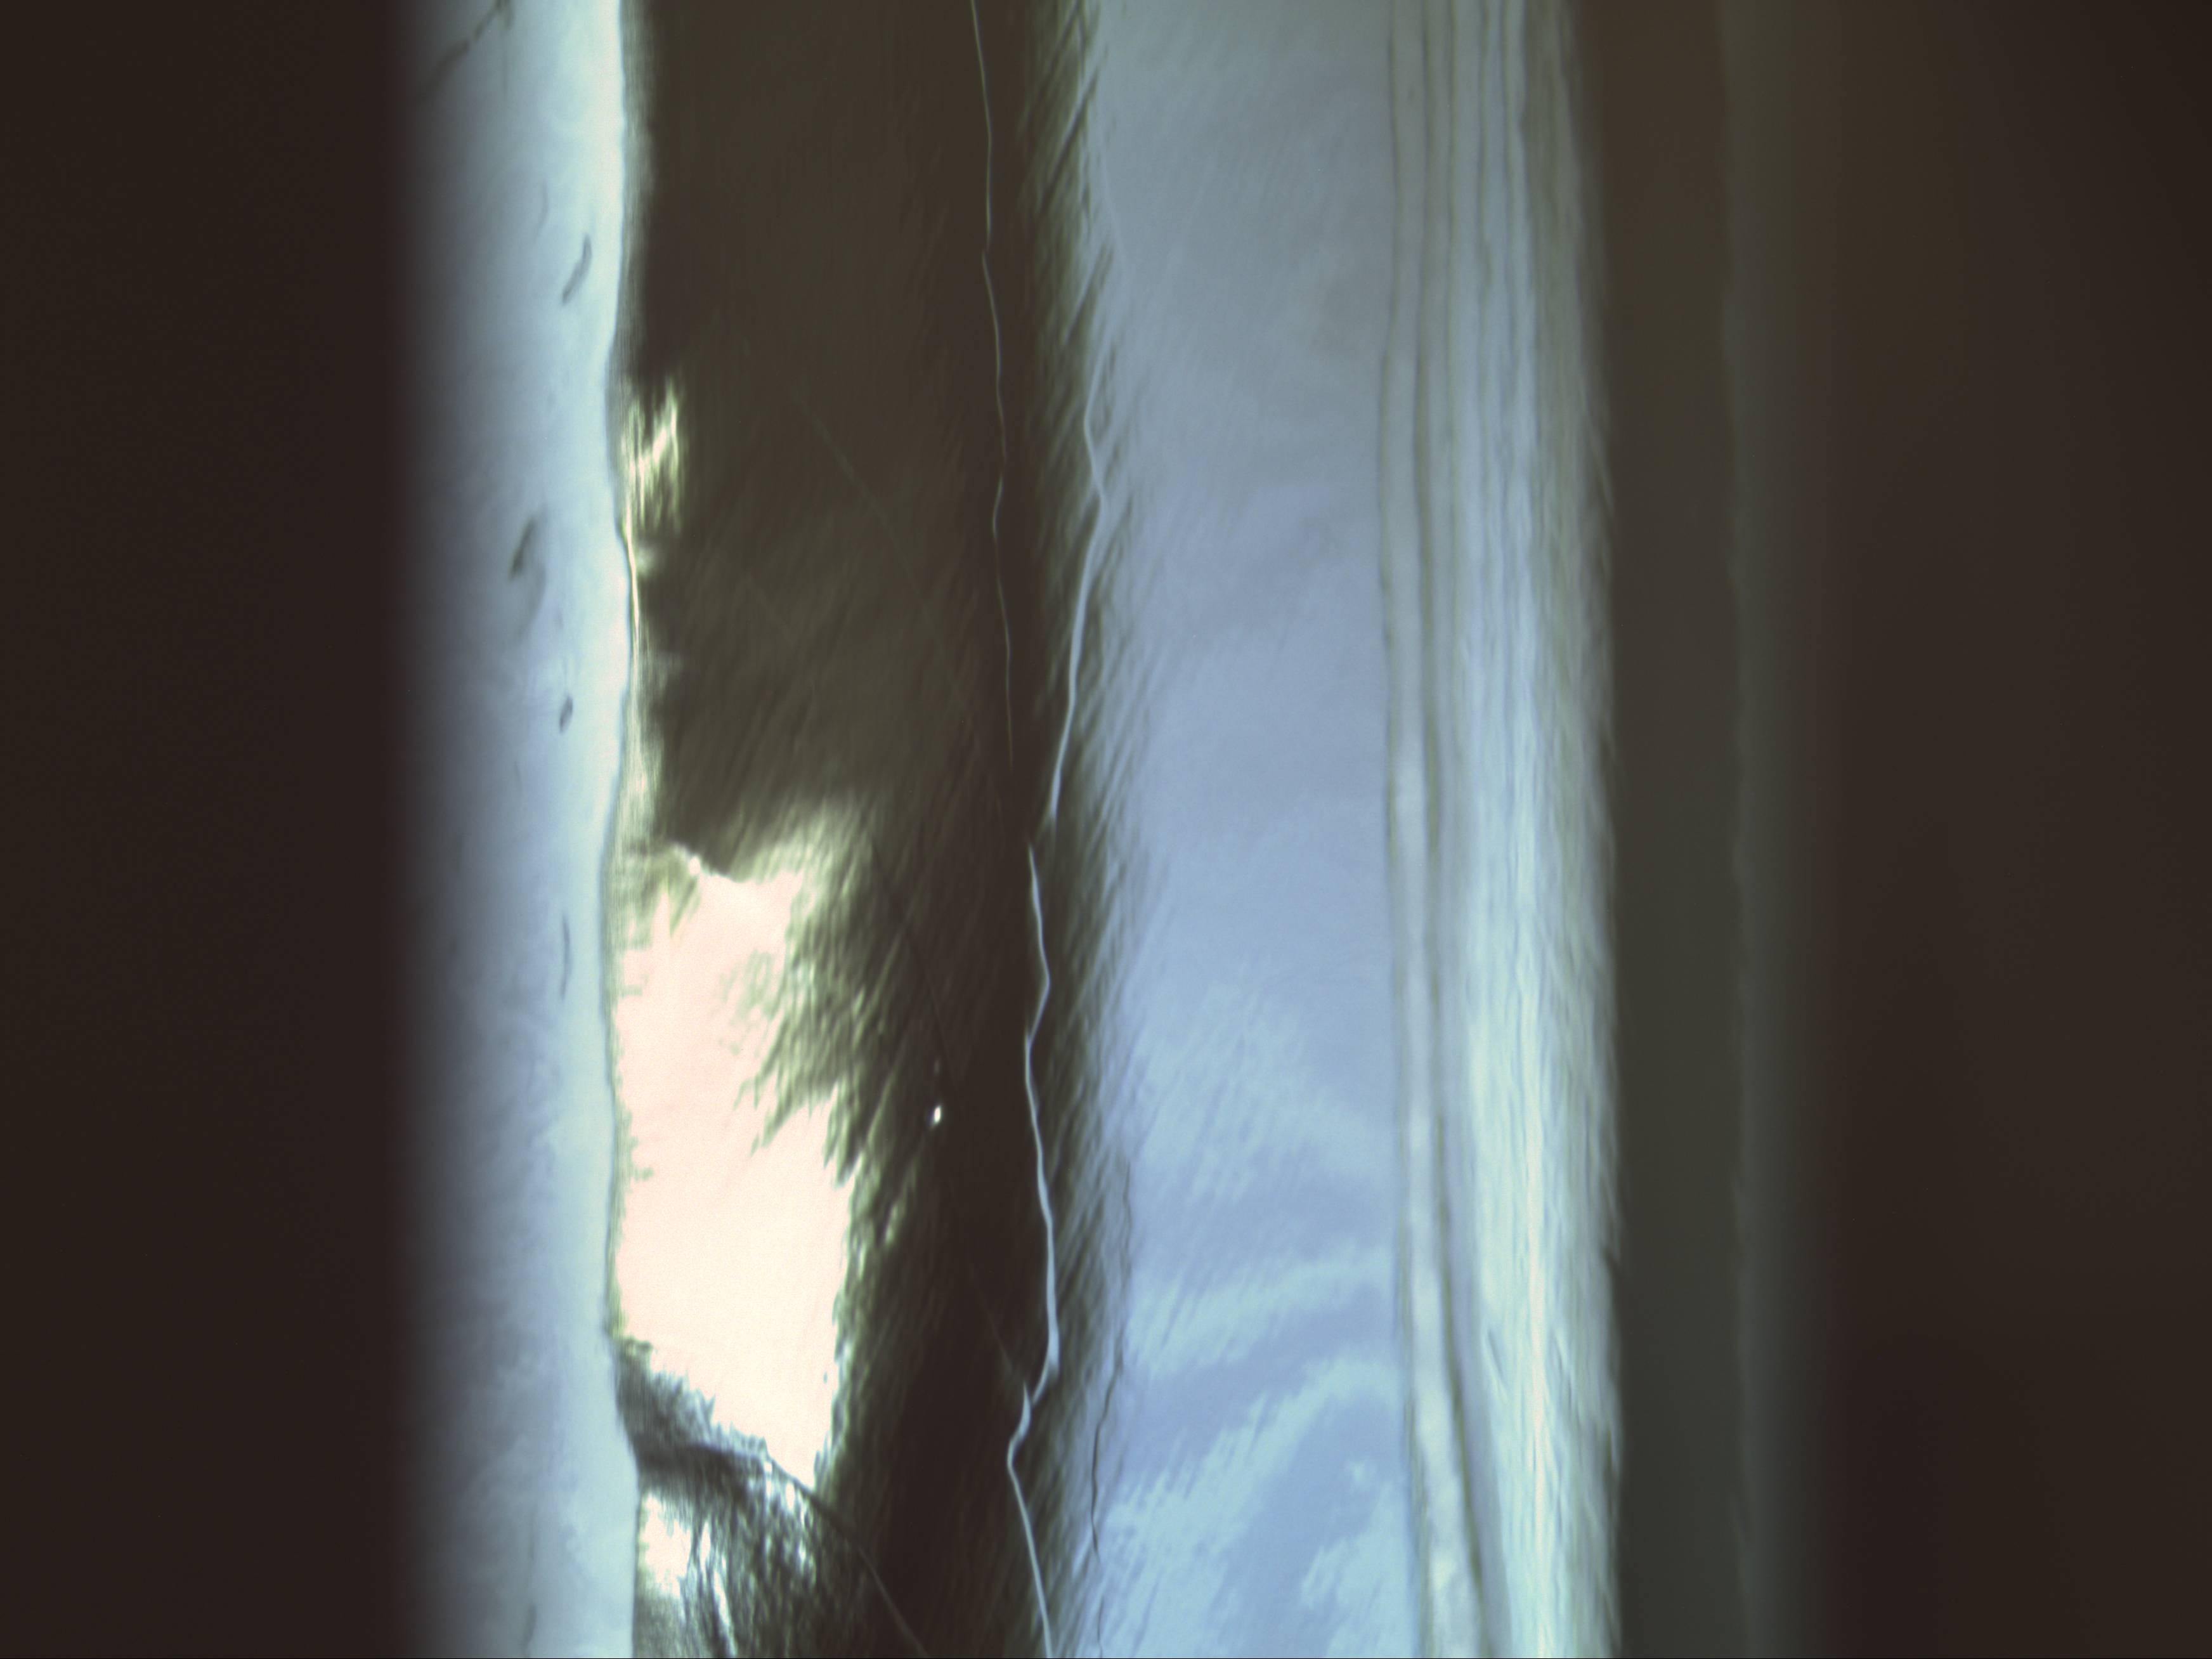defect: (916, 1096, 956, 1133)
